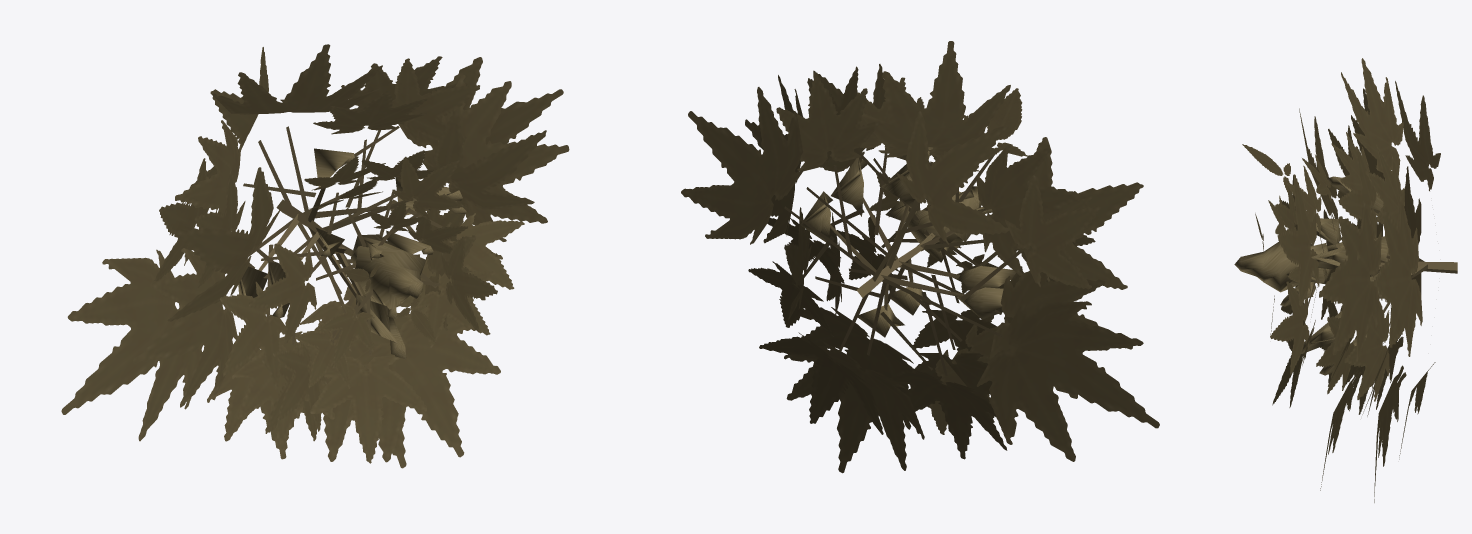
The model's file is p_tree_flowering_c4_cards.obj.
3 views of the same model, side by side, from view 1: azimuth 30°, elevation 25°; view 2: azimuth 150°, elevation 25°; view 3: azimuth 270°, elevation 25° (orthographic). The views are drawn at different scales.
Size of the model in its own units: 1.56 by 1.31 by 0.6.
Materials: 1 (1 with a texture image).
